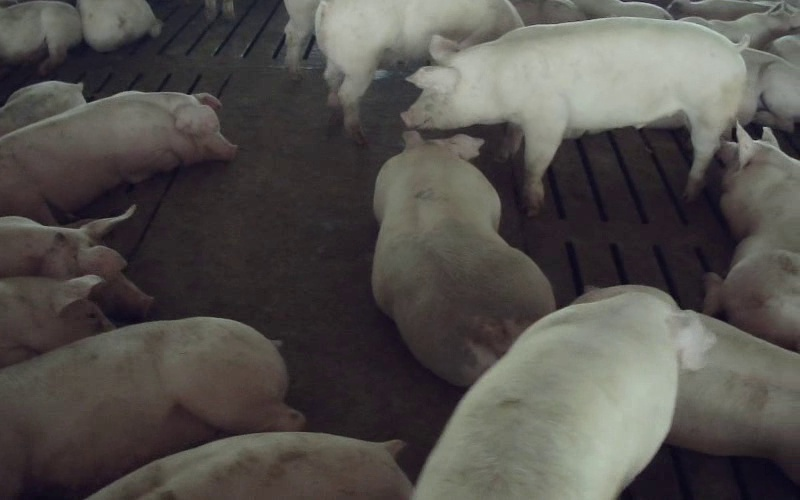pig: (402, 17, 749, 214), (416, 286, 713, 499), (0, 317, 304, 499), (373, 132, 554, 385), (0, 91, 236, 224), (315, 0, 522, 142), (667, 315, 799, 483), (88, 432, 412, 499), (704, 124, 799, 349), (0, 206, 152, 320), (0, 275, 114, 367), (0, 81, 85, 136), (78, 0, 161, 51)
